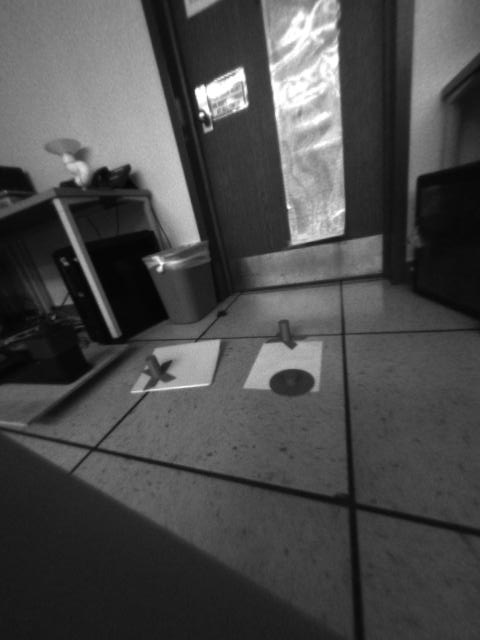X: (138, 353, 176, 388), (266, 318, 304, 349)
